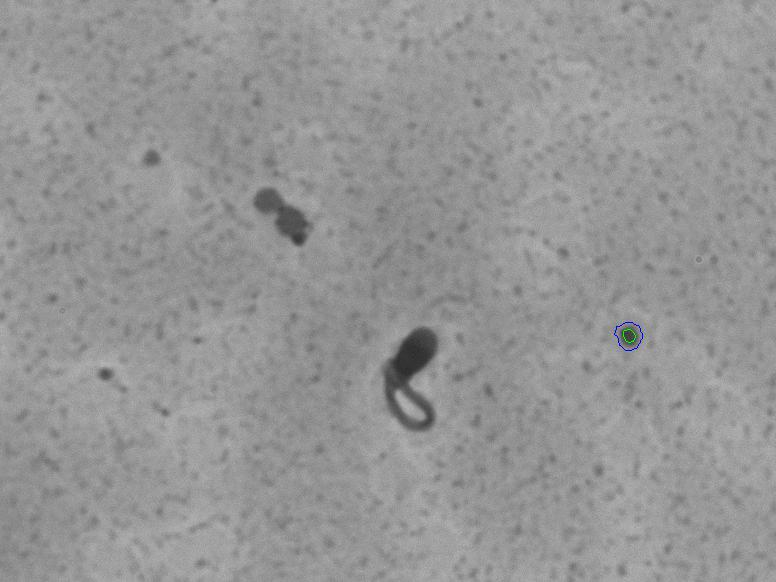Abnormal: (331, 299, 483, 467)
